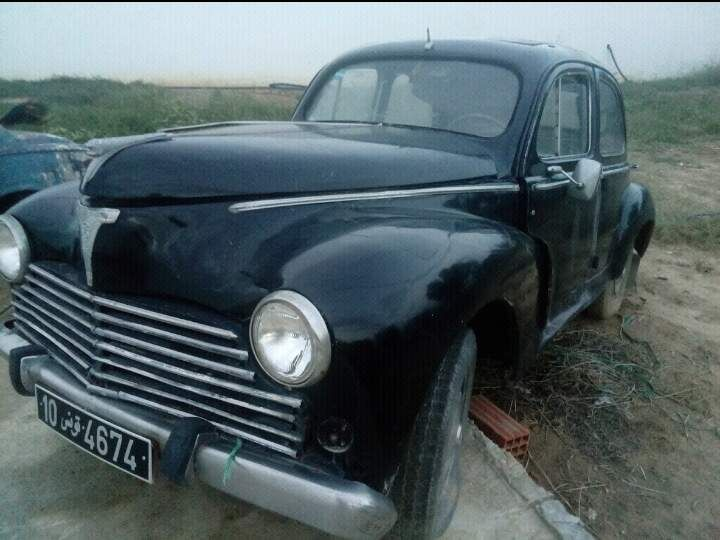LP: (34, 384, 152, 484)
